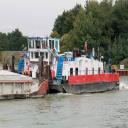tugboat: (8, 35, 122, 98)
